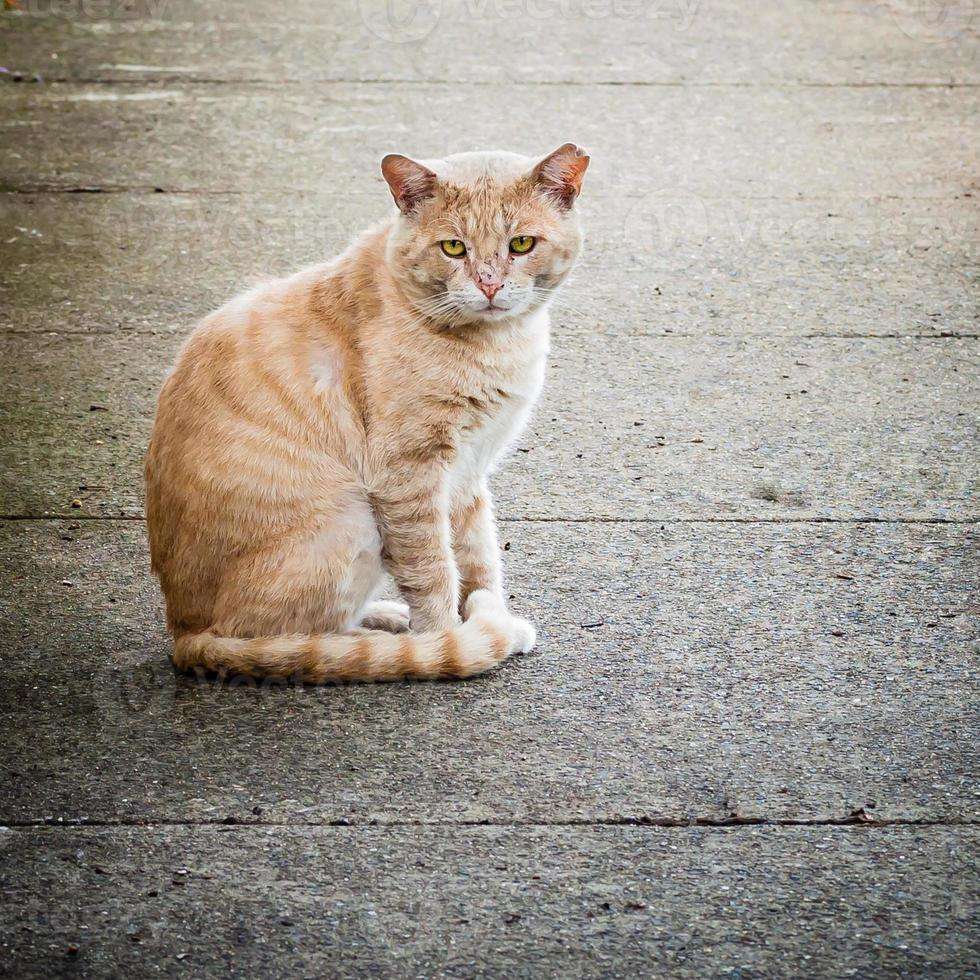cat: (124, 139, 639, 701)
